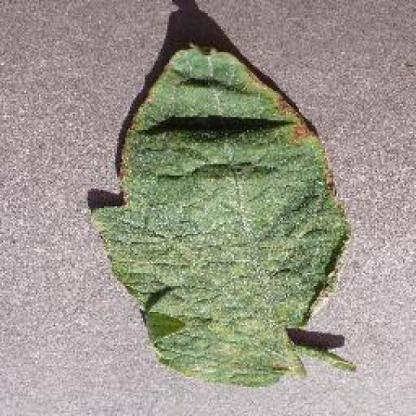Tomato_Spider_Mites: (92, 47, 355, 385)
